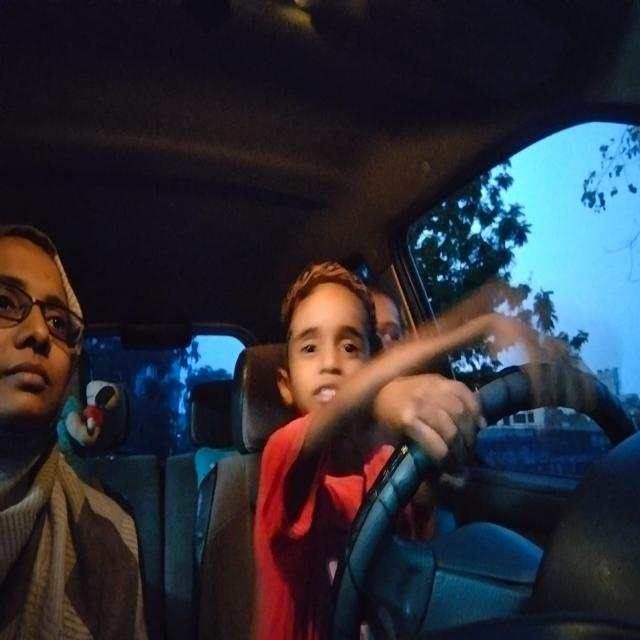child: (273, 235, 395, 450), (371, 266, 415, 362)
person: (0, 191, 97, 459)
